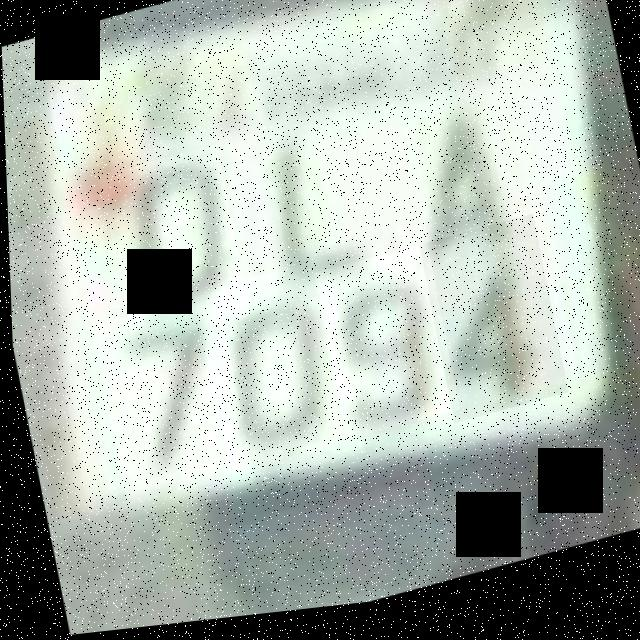0: (191, 262, 362, 496)
4: (416, 223, 565, 436)
7: (88, 293, 252, 525)
9: (311, 250, 457, 450)
J: (219, 118, 378, 318)
O: (97, 147, 249, 351)
